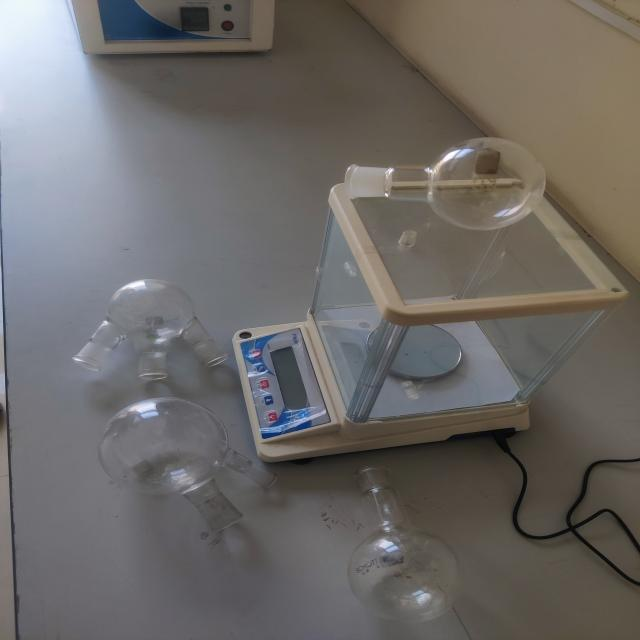Round_Bottom_Flask_Borosilicate_Glass_1_Neck: (333, 112, 565, 252), (331, 453, 488, 640)
Round_Bottom_Flask_Borosilicate_Glass_2_Neck: (82, 390, 306, 552)
Round_Bottom_Flask_Borosilicate_Glass_3_Neck: (54, 255, 256, 395)
